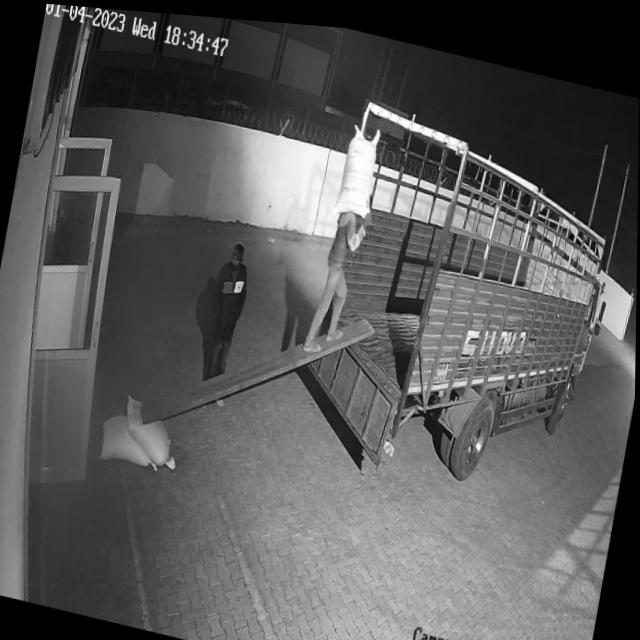sack: (117, 390, 186, 468), (334, 115, 385, 215), (97, 408, 166, 471)
